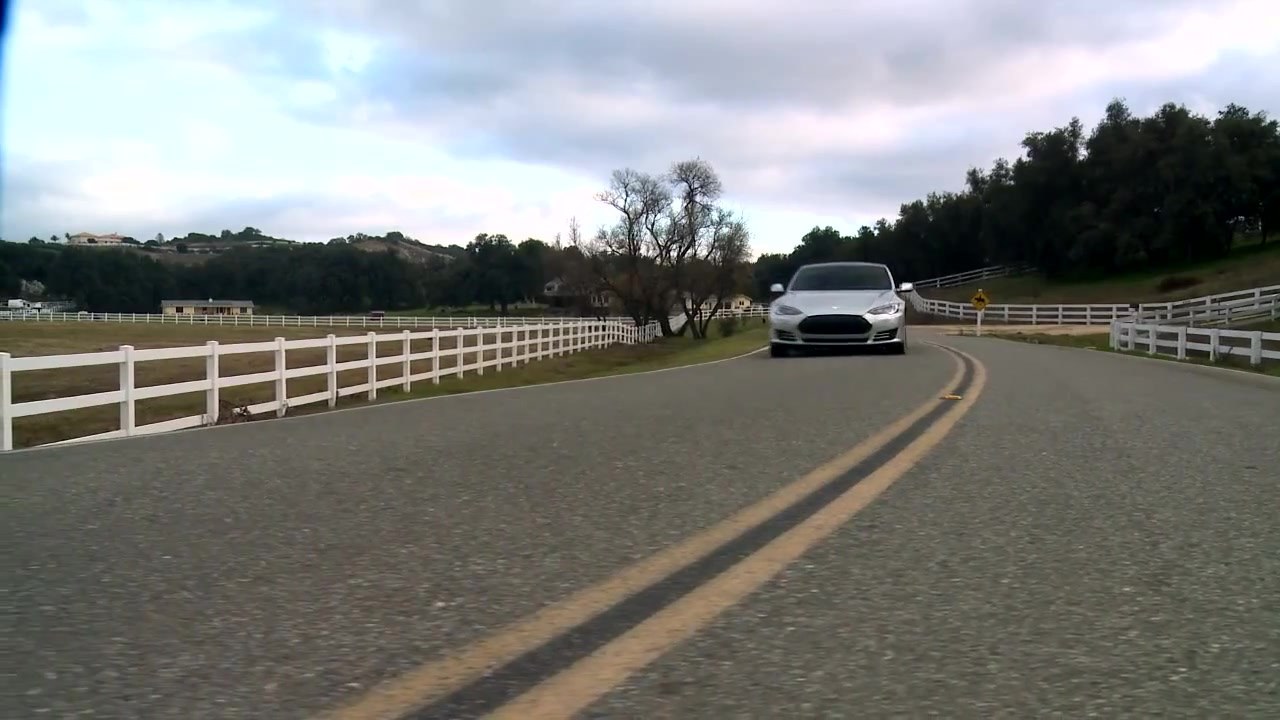car: (762, 256, 918, 358)
